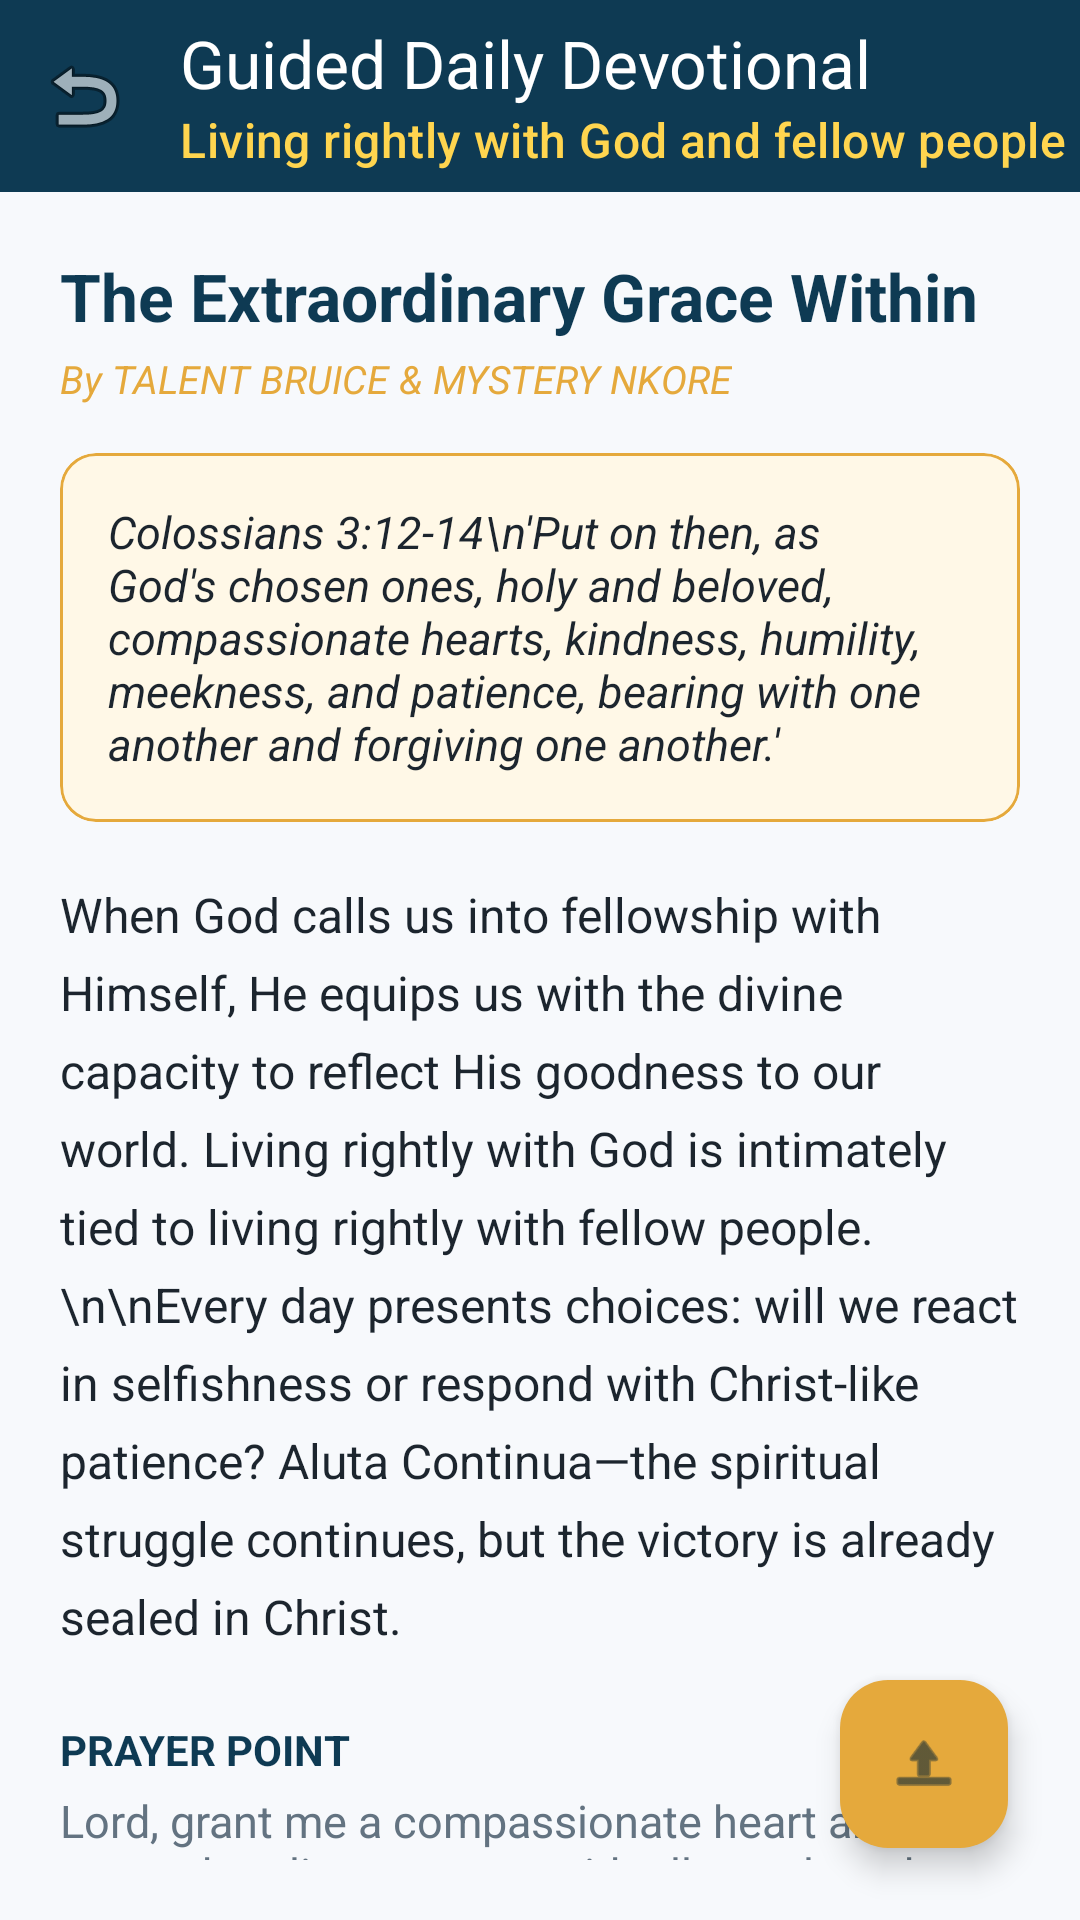

Icons on this 1080w x 1920h Android screen, each with its box as Rect(x1, y1, x2, y2):
upload: Rect(840, 1680, 1008, 1848)
